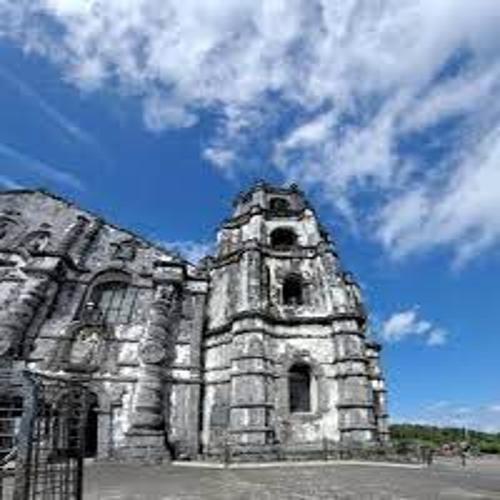Daraga Church: (4, 159, 397, 469)
